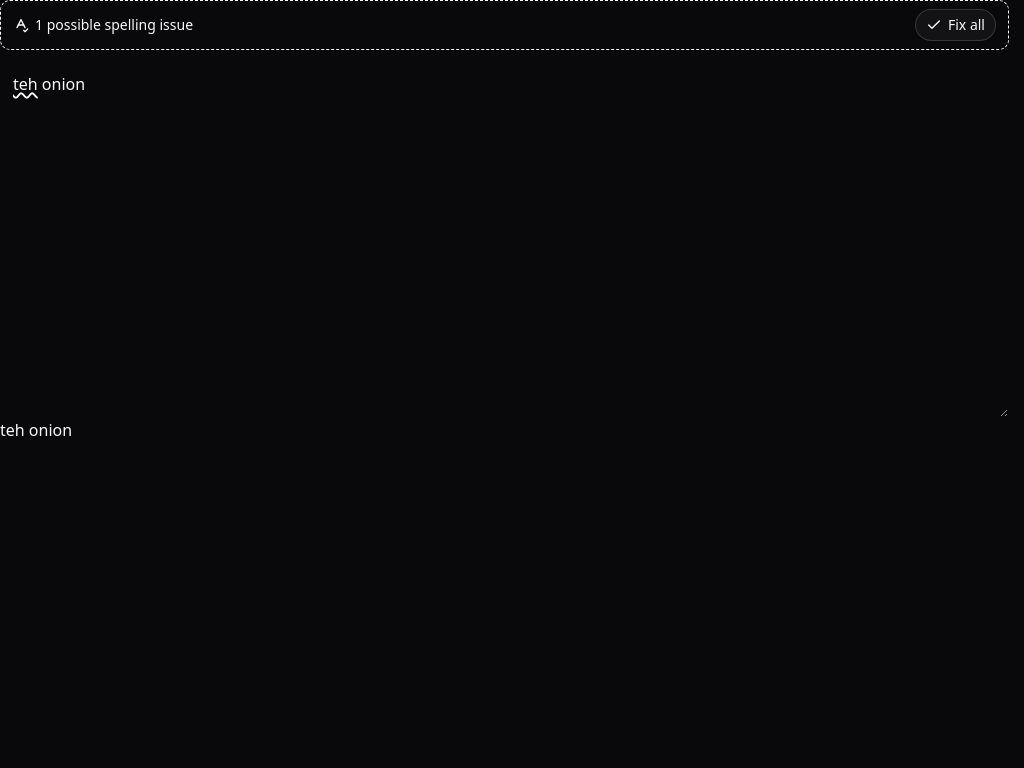
Test: SpellcheckEditor › stops flagging a word once ignored
The image size is (1024, 768).
Click the button "1 possible spelling issue": (103,25) [13,15,193,35]
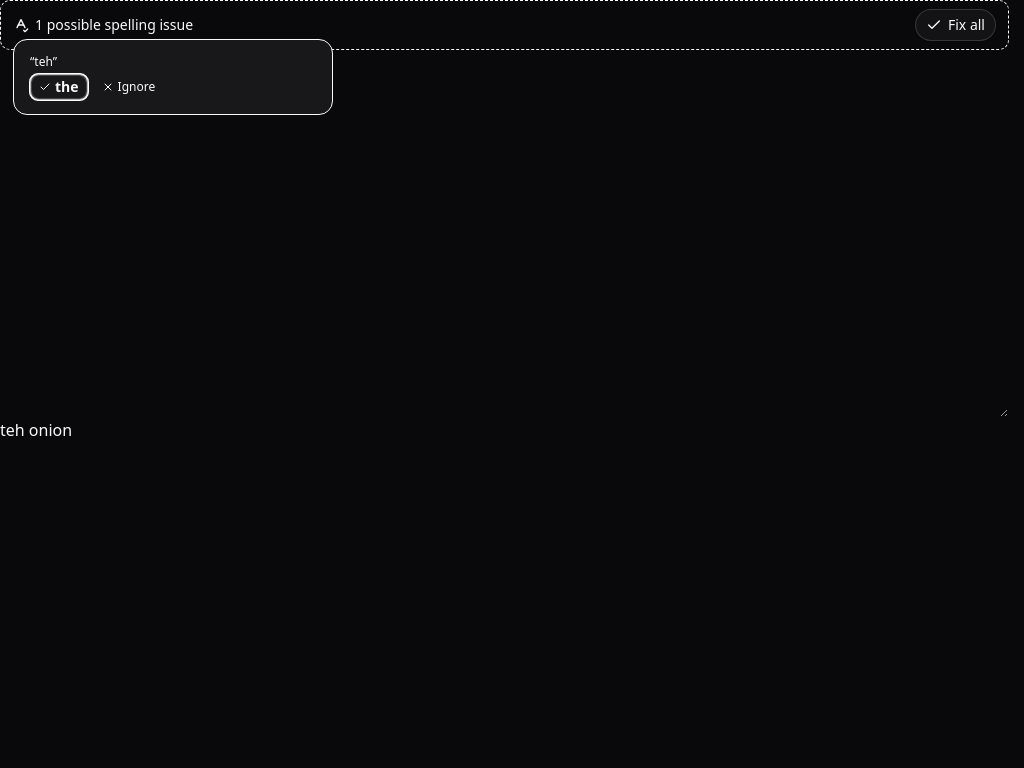
Click the button "Ignore": (128,87) [94,77,163,97]
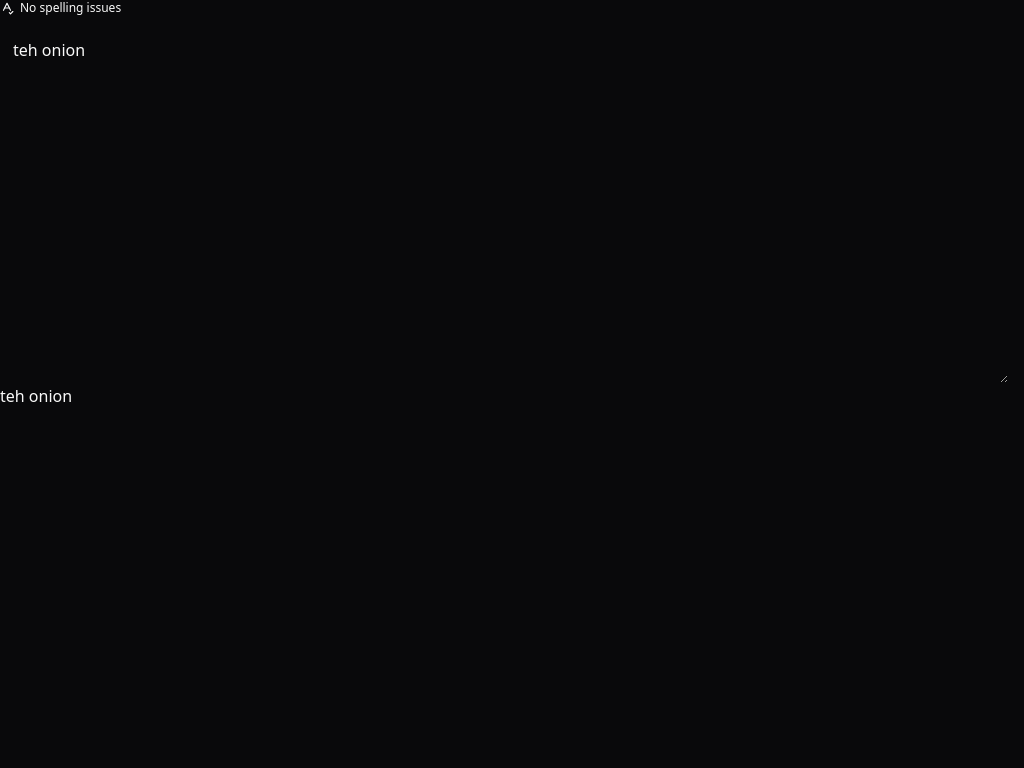
Expected: the text "No spelling issues" is shown, [0,0,121,16]
